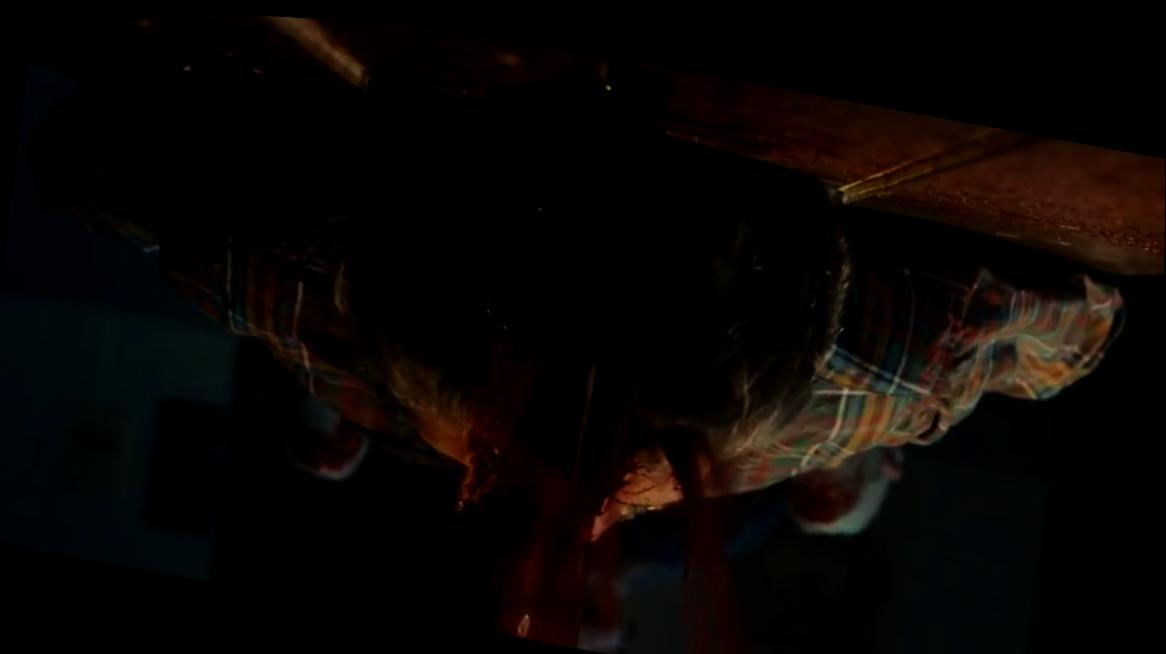Fire: (469, 297, 623, 639), (660, 419, 750, 654), (276, 414, 368, 475), (796, 467, 861, 513), (606, 400, 628, 485)
